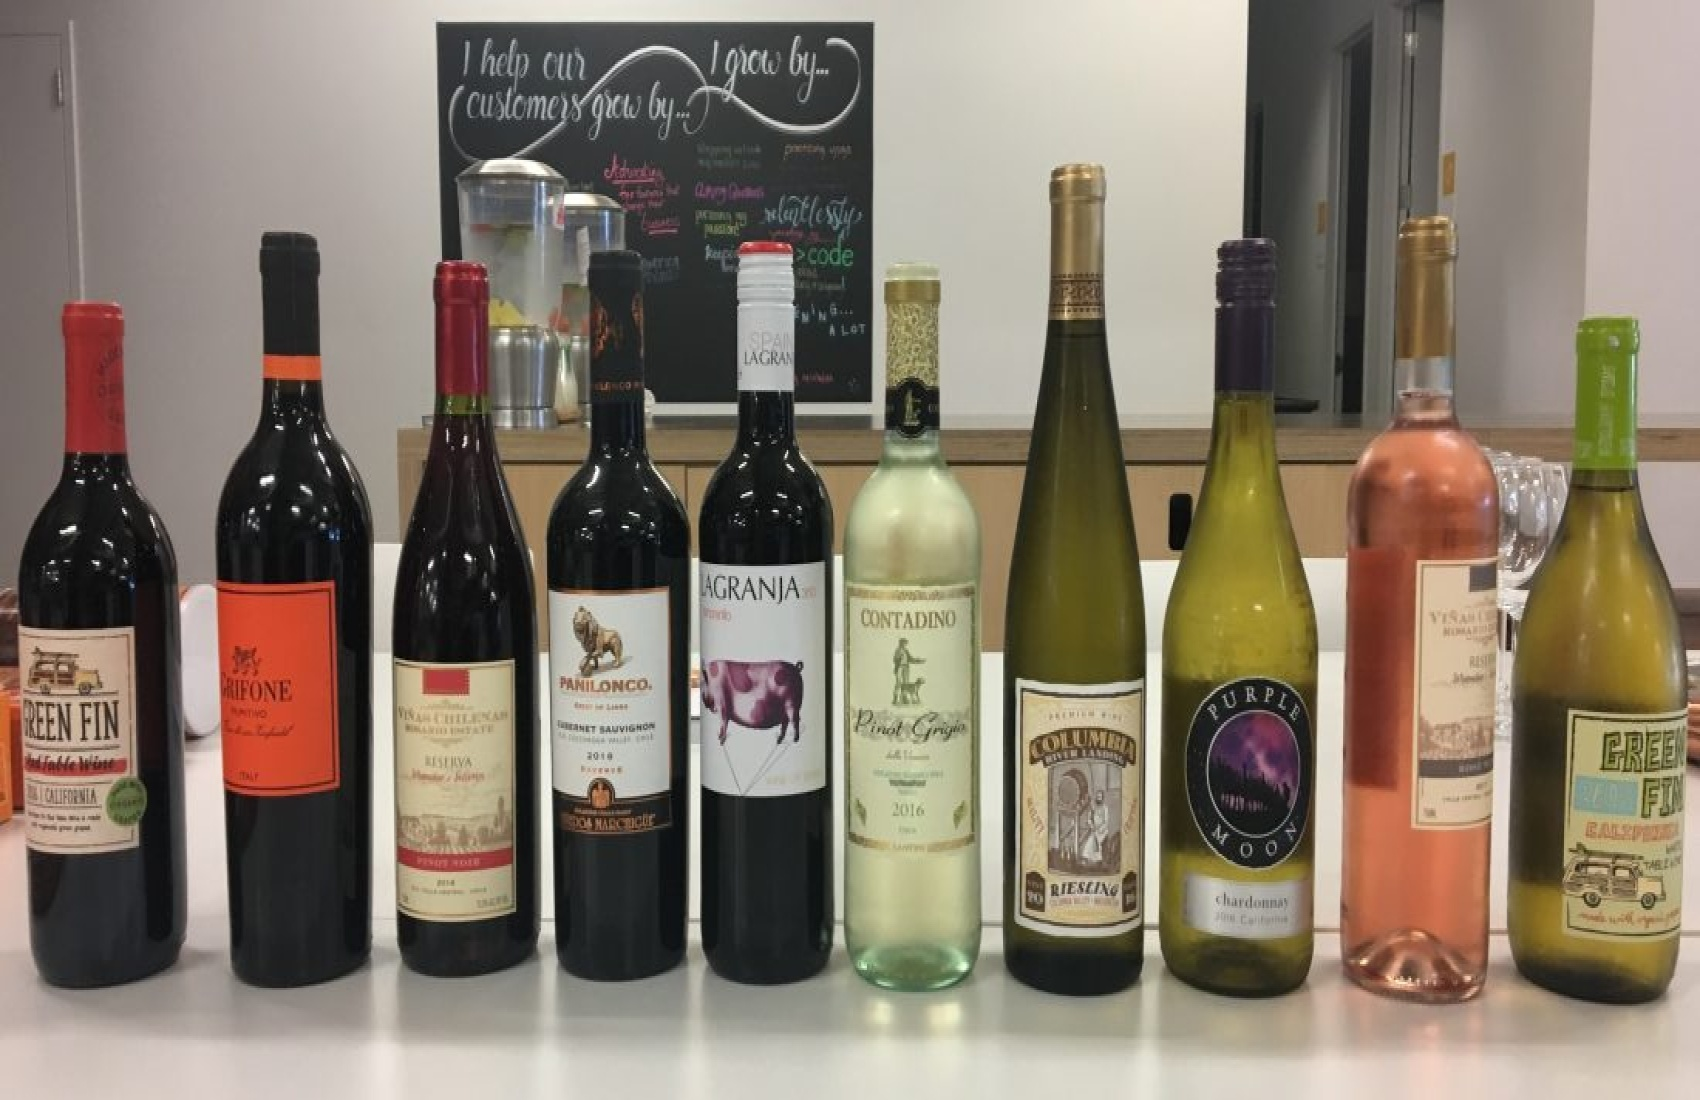wine: (24, 237, 185, 986), (1524, 245, 1685, 995), (1167, 247, 1311, 979), (852, 254, 996, 986), (384, 239, 528, 971), (223, 237, 367, 967), (694, 242, 831, 984), (1352, 247, 1489, 989), (1007, 243, 1144, 985)
